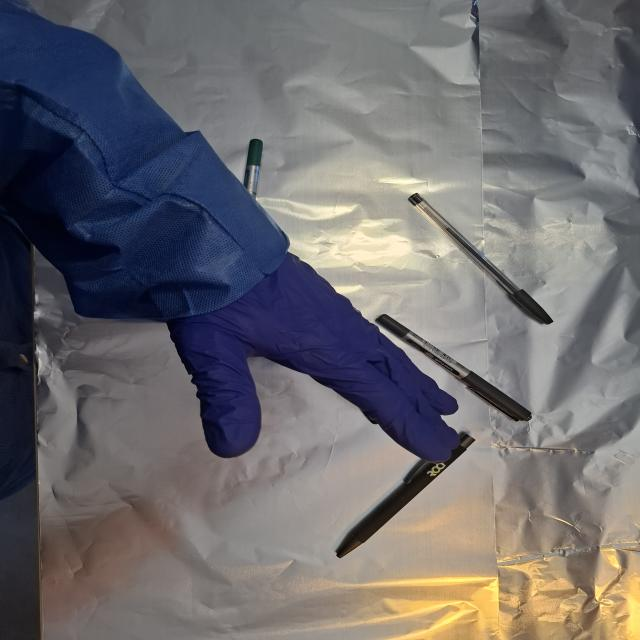glove_on: (161, 248, 462, 465)
